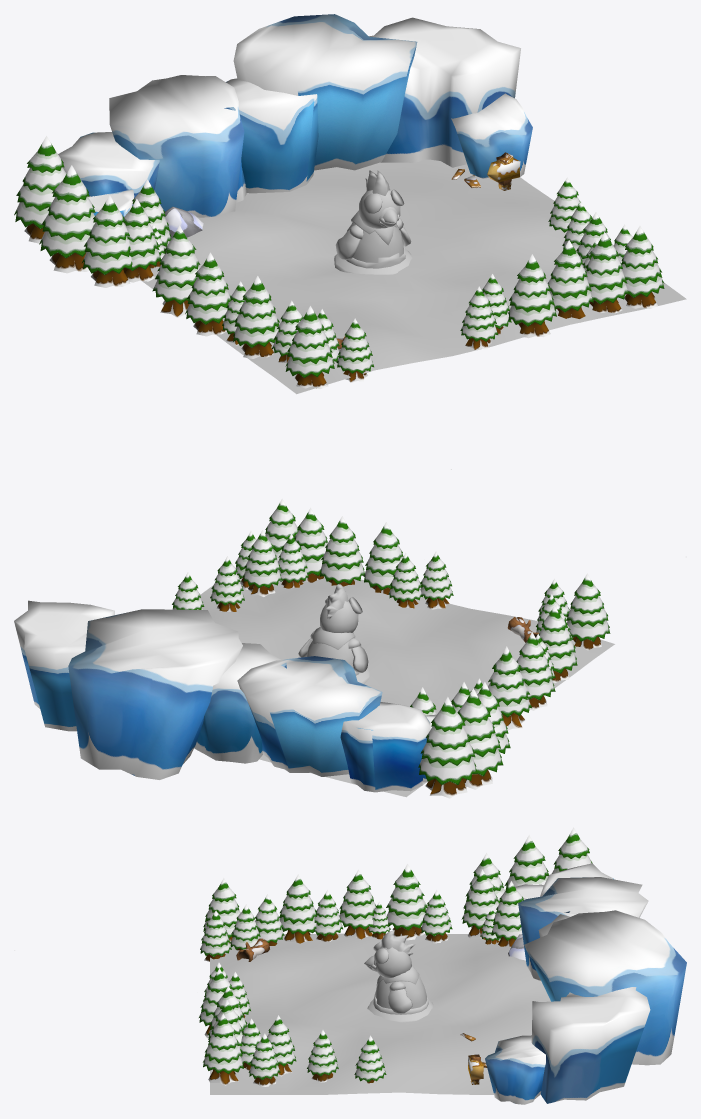
Rendered from Newbie_3_Tower.FBX.
3 views of the same model, one above another, from view 1: azimuth 30°, elevation 25°; view 2: azimuth 150°, elevation 25°; view 3: azimuth 270°, elevation 25° (orthographic). The views are drawn at different scales.
Parts seen in each view (by area): view 1: tereno1, Iceberg03, Iceberg006, Iceberg05, Iceberg02, Chicken, Iceberg008, Iceberg01, Three038, Three037, Three039, Three (+19 smaller); view 2: Iceberg03, tereno1, Iceberg006, Iceberg05, Iceberg01, Iceberg02, Three039, Chicken, Three038, Three002, Three, Three022 (+14 smaller); view 3: tereno1, Iceberg03, Iceberg05, Iceberg006, Chicken, Iceberg008, Three, Three019, Three009, Three008, Three004, Three036 (+21 smaller).
Boxes of the visible parts, x1,y1,x2,y2 form: tereno1: (142, 159, 686, 394); Iceberg03: (233, 14, 417, 170); Iceberg006: (109, 75, 246, 217); Iceberg05: (369, 17, 520, 167); Iceberg02: (224, 78, 318, 193); Chicken: (334, 170, 412, 274); Iceberg008: (451, 93, 532, 178); Iceberg01: (58, 132, 159, 205); Three038: (39, 165, 95, 273); Three037: (82, 195, 132, 287); Three039: (14, 136, 66, 243); Three: (152, 225, 200, 317); Iceberg03: (68, 609, 242, 779); tereno1: (200, 575, 614, 797); Iceberg006: (237, 656, 382, 776); Iceberg05: (14, 600, 114, 731); Iceberg01: (340, 702, 430, 792); Iceberg02: (194, 643, 286, 763); Three039: (418, 697, 477, 798); Chicken: (298, 584, 369, 683); Three038: (457, 688, 503, 789); Three002: (566, 573, 610, 650); Three: (488, 646, 531, 730); Three022: (320, 516, 364, 586); tereno1: (210, 933, 550, 1094); Iceberg03: (524, 910, 686, 1065); Iceberg05: (531, 987, 650, 1103); Iceberg006: (518, 877, 648, 980); Chicken: (367, 930, 433, 1022); Iceberg008: (485, 1035, 545, 1104); Three: (386, 864, 427, 940); Three019: (203, 1013, 244, 1085); Three009: (279, 874, 316, 943); Three008: (339, 869, 376, 939); Three004: (461, 869, 498, 939); Three036: (491, 881, 523, 946).
Bounding box in the file's own units: 631 × 146 × 884.
